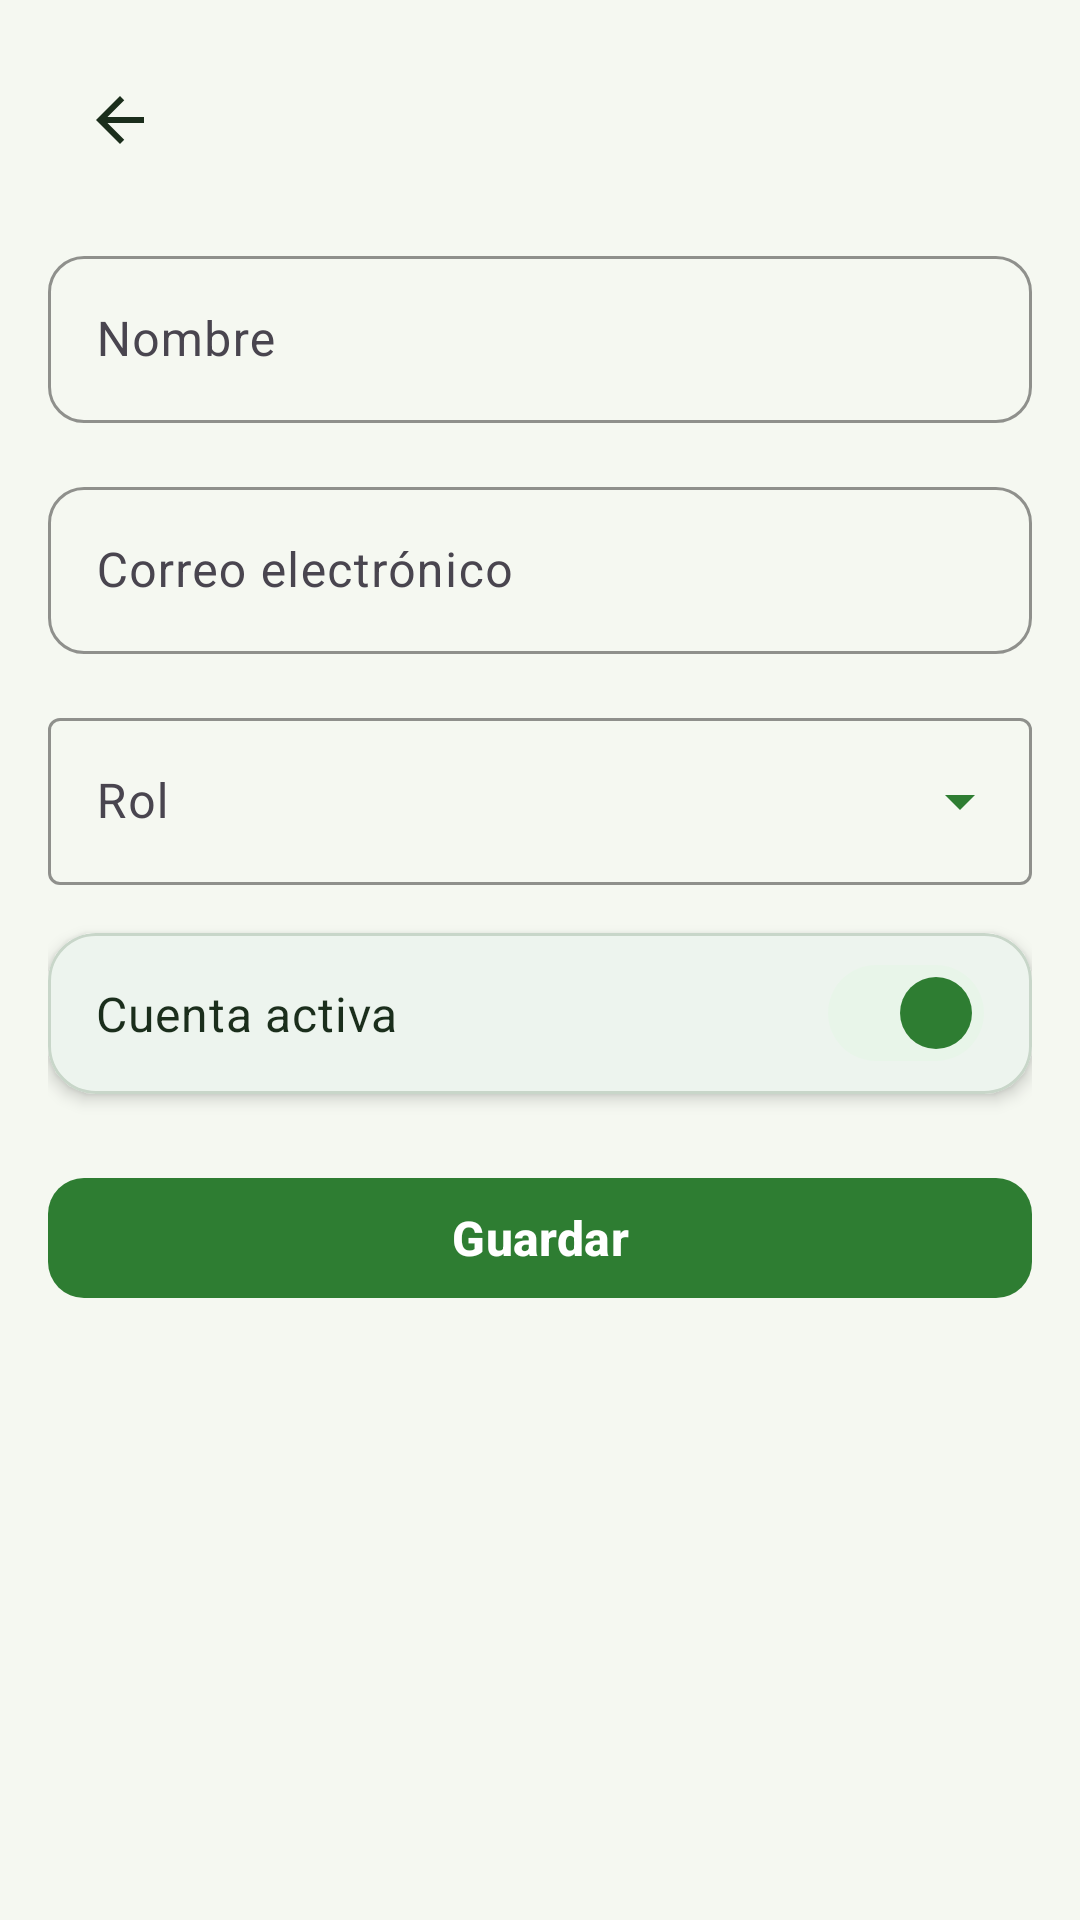

Screen size 1080 x 1920. Icon name, then its center in pixels as (x=x, y=y):
Volver a la pantalla anterior: (x=120, y=120)
